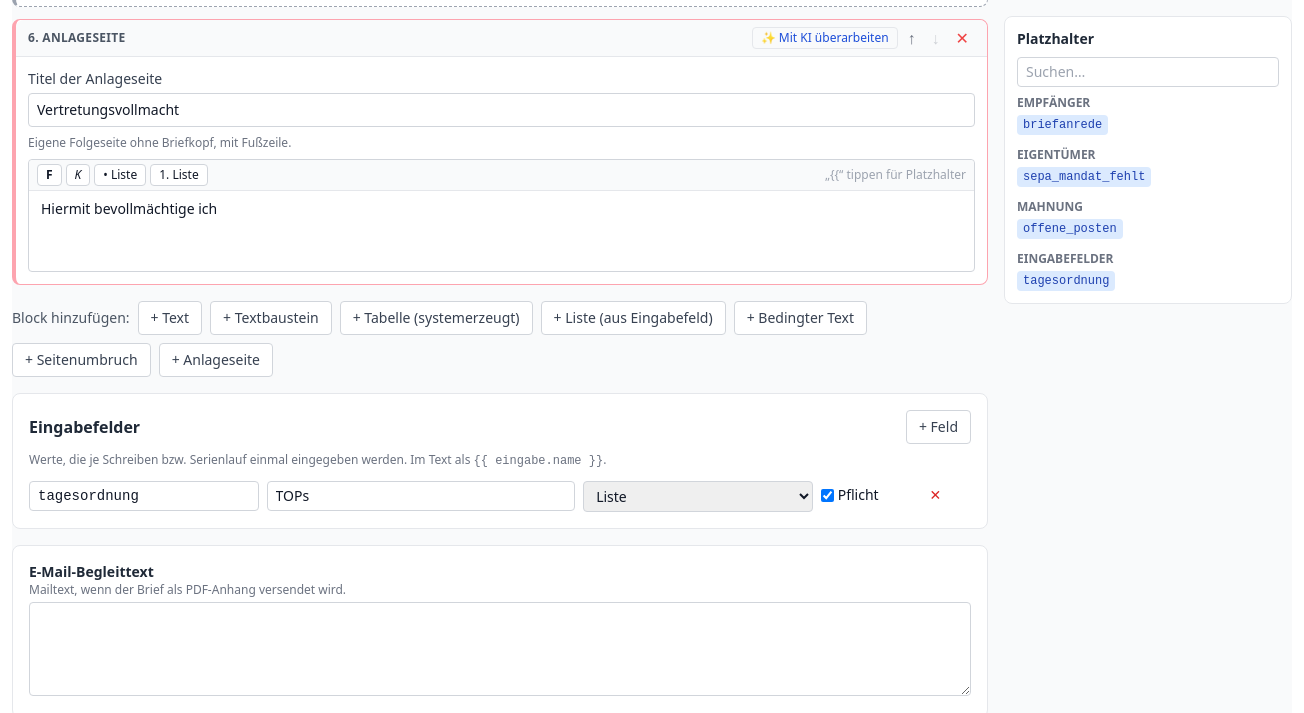
it: VorlagenEditor — Freigabe und Lesemodus › speichert vor der Freigabe und gibt nach Bestätigung frei
(page scrolled)
What coordinates should you click on to do the following:
click the button "+ Seitenumbruch"
I would click on:
 (81, 360)
Its box is [12,343,151,377].
(page scrolled)
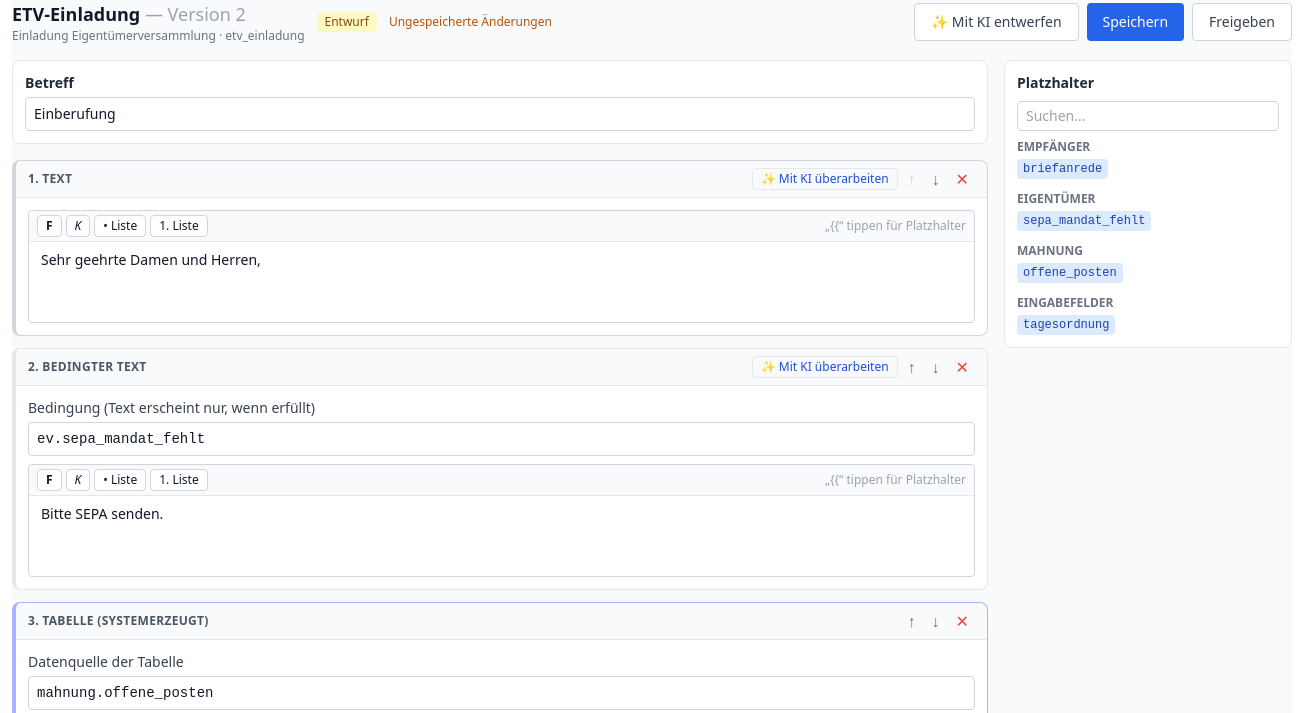
What coordinates should you click on to do the following:
click the button "Freigeben"
I would click on:
 (1242, 22)
Its box is [1192,3,1292,41].
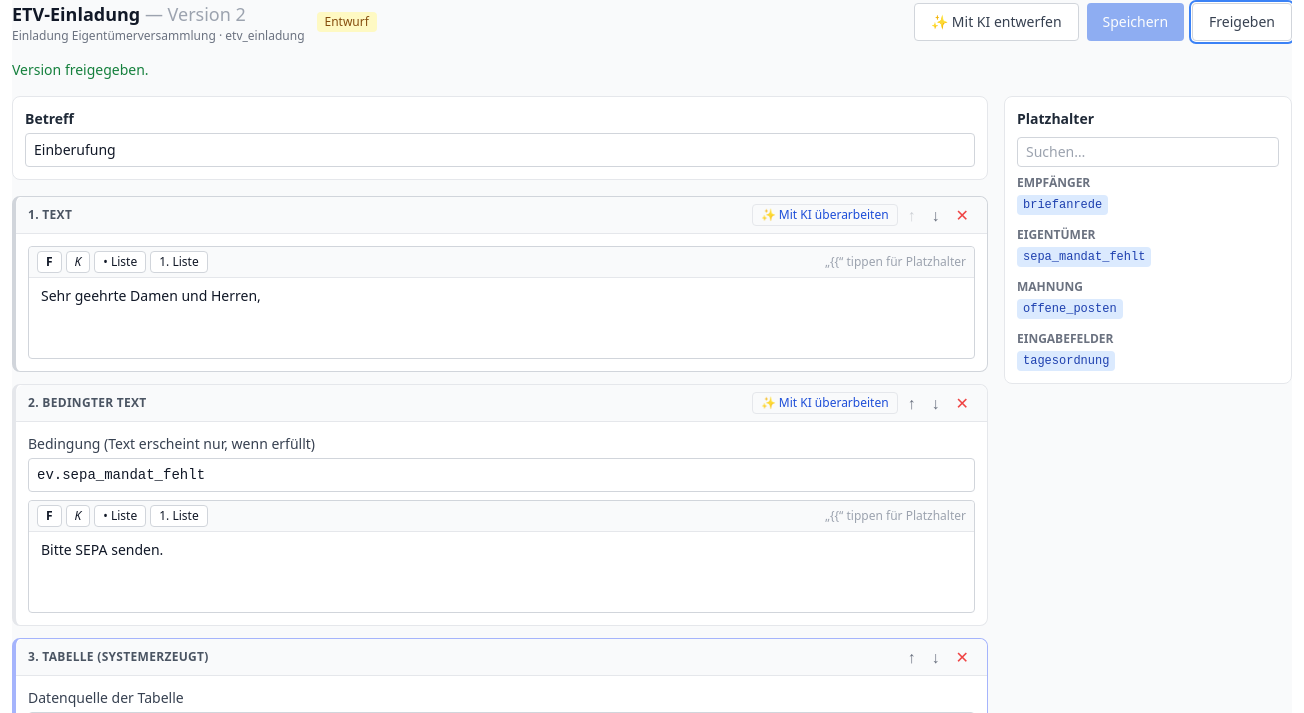
expect the text "Version freigegeben." is shown: met, box [12,60,149,79]
